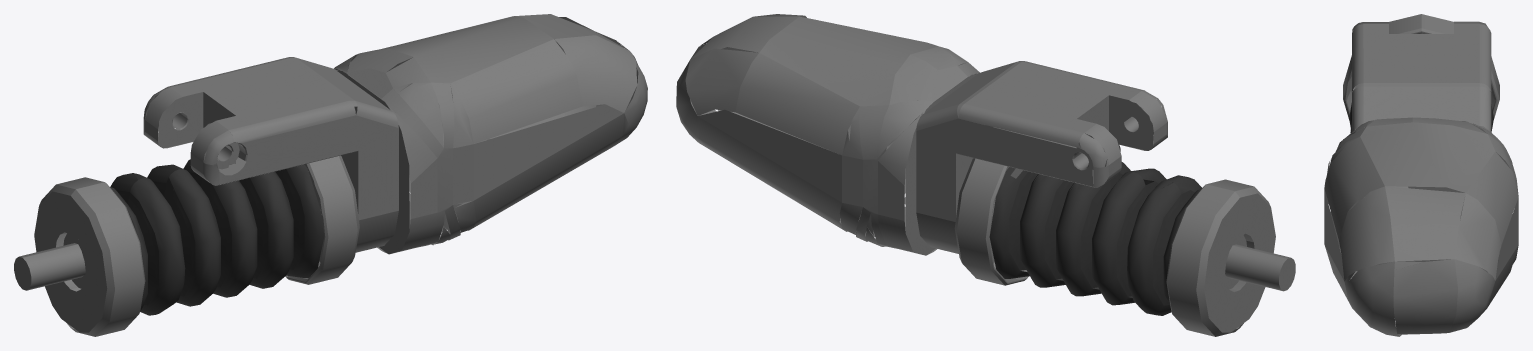
File: handr_finger_ring2_joint.obj
3 views of the same model, side by side, from view 1: azimuth 30°, elevation 25°; view 2: azimuth 150°, elevation 25°; view 3: azimuth 270°, elevation 25° (orthographic).
Size of the model in its own units: 0.06 by 0.0186 by 0.0167.
Materials: 1 (1 with a texture image).
